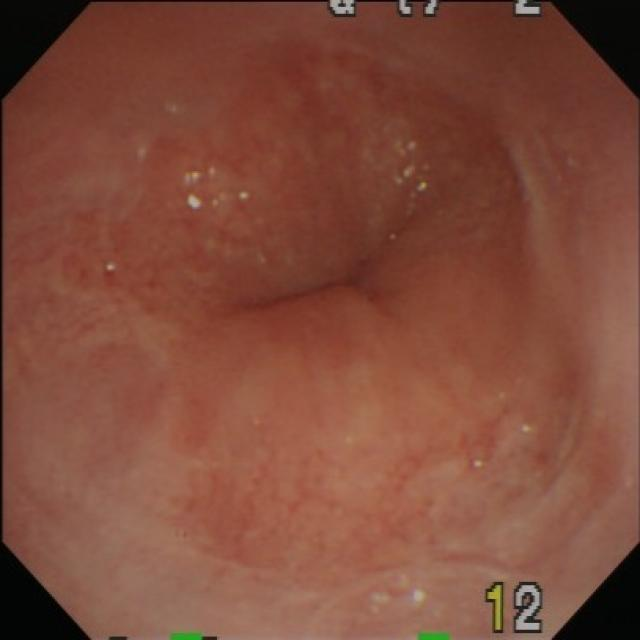A: (169, 403, 514, 573)
I: (172, 118, 462, 421)
S: (485, 581, 547, 636), (325, 3, 545, 18)
T: (303, 561, 449, 638)
U: (182, 165, 253, 210), (394, 135, 432, 195)
